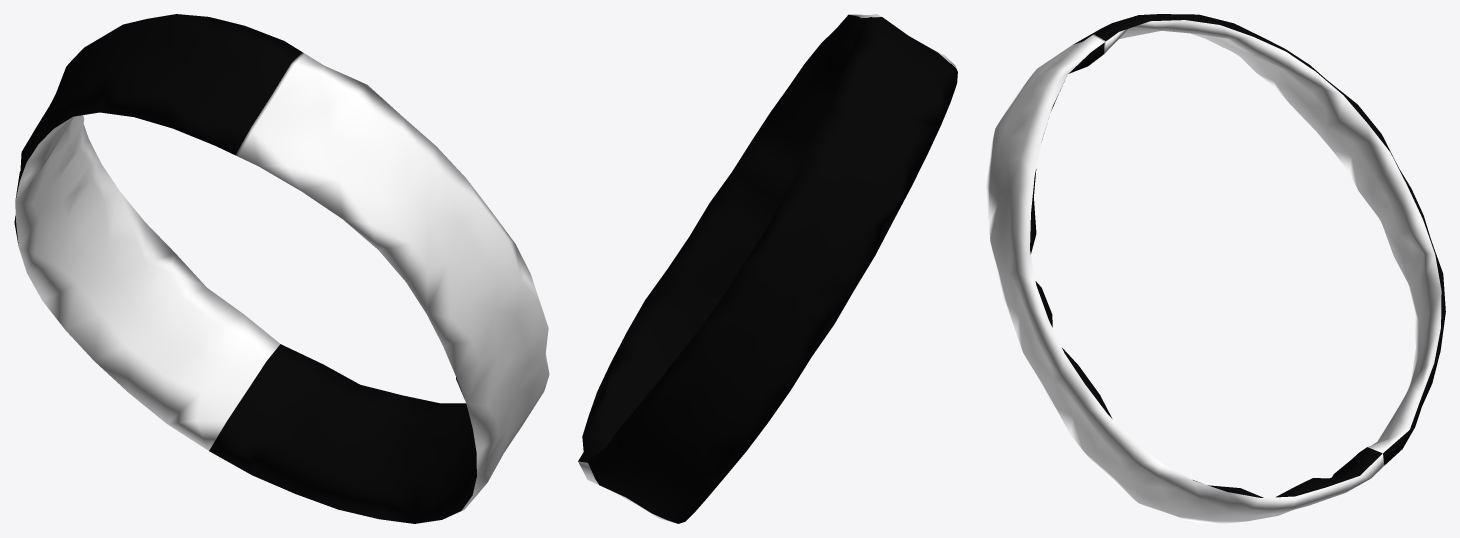
File: handPov1.glb
The picture shows the model from 3 angles, left to right: view 1: azimuth 30°, elevation 25°; view 2: azimuth 150°, elevation 25°; view 3: azimuth 270°, elevation 25°; orthographic projection. The views are drawn at different scales.
Parts seen in each view (by area): view 1: handPov; view 2: handPov; view 3: handPov.
Part boxes in pixels (x1,y1,x2,y2): handPov: (14, 14, 549, 523); handPov: (578, 14, 957, 523); handPov: (986, 14, 1445, 523).
Size of the model in its own units: 1.42 by 1.89 by 1.8.
Materials: 1 (1 with a texture image).
